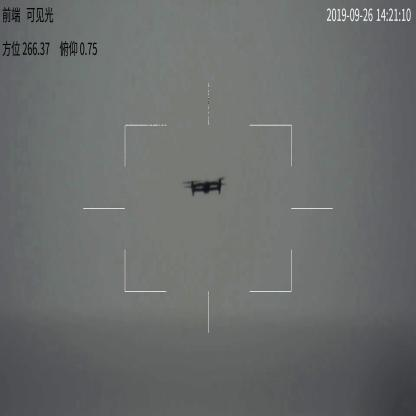uav: (184, 172, 227, 198)
